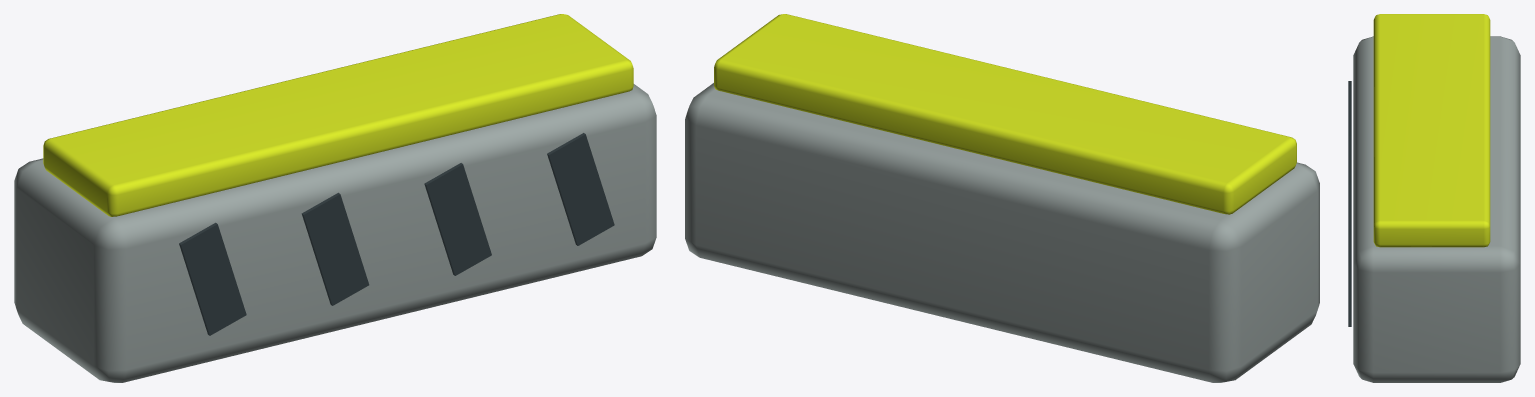
Rendered from barrier.glb.
The picture shows the model from 3 angles, left to right: view 1: azimuth 30°, elevation 25°; view 2: azimuth 150°, elevation 25°; view 3: azimuth 270°, elevation 25°; orthographic projection. The views are drawn at different scales.
Parts seen in each view (by area): view 1: barrier; view 2: barrier; view 3: barrier.
Boxes of the visible parts, x1,y1,x2,y2 form: barrier: [14, 14, 656, 382]; barrier: [685, 14, 1319, 382]; barrier: [1348, 14, 1520, 382].
Bounding box in the file's own units: 3.2 × 1.06 × 1.03.
